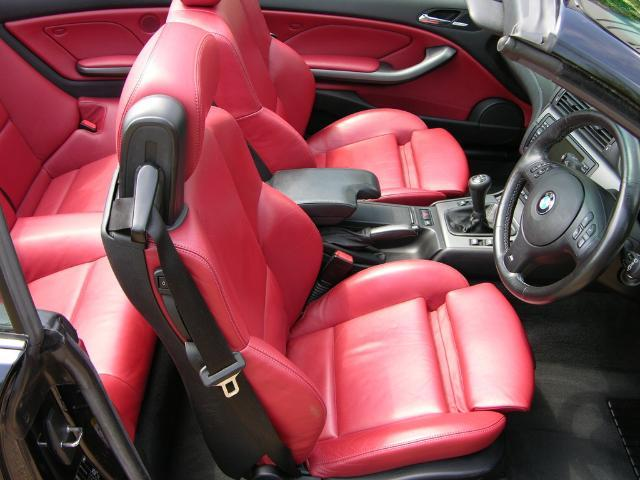Seatbelt: (106, 195, 300, 479)
